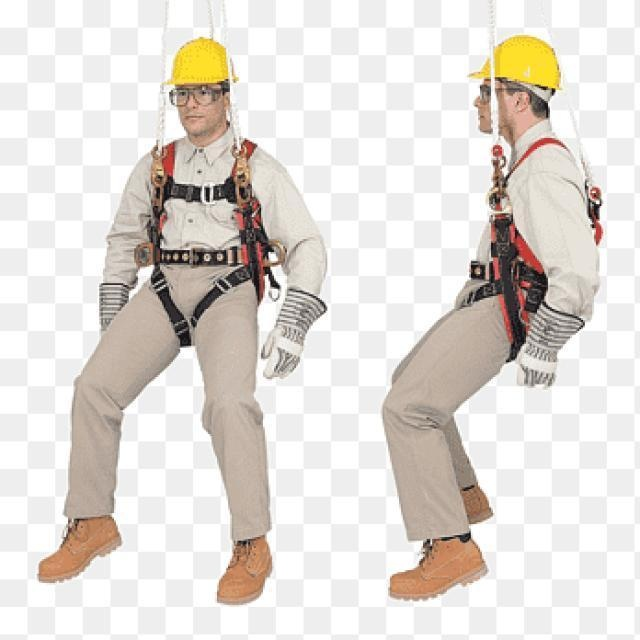Arnes_seguridad: (463, 143, 607, 370), (137, 130, 284, 350)
